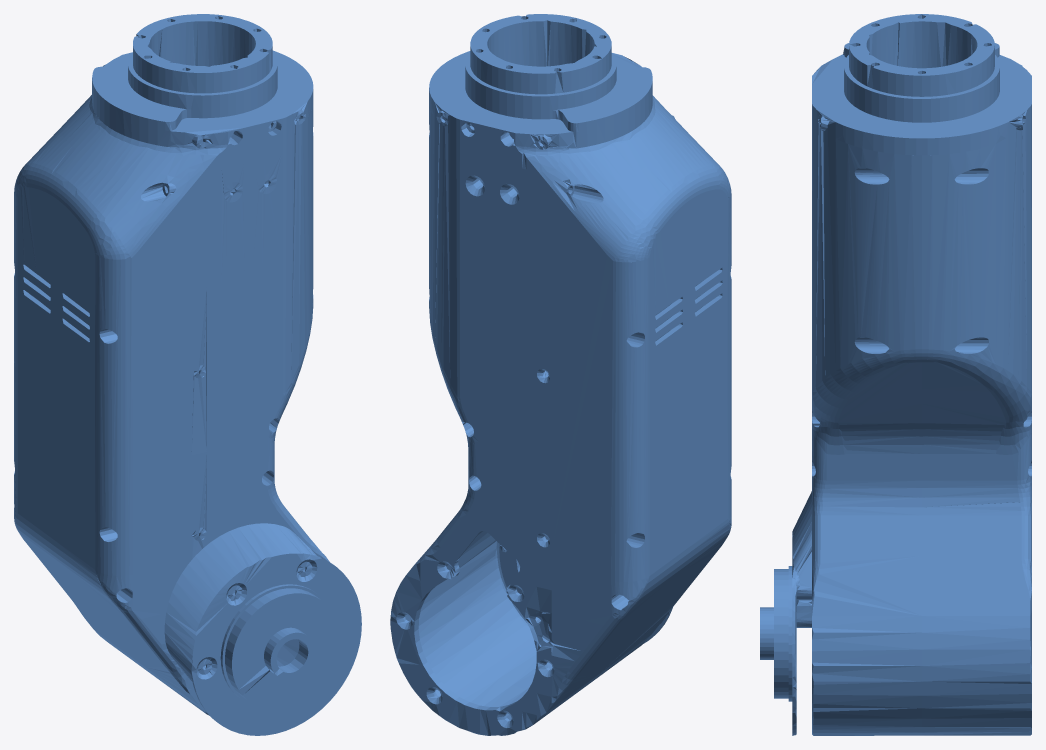
File: A2R3_RT3_bicep.dae
3 renders of one model, left to right at view 1: azimuth 30°, elevation 25°; view 2: azimuth 150°, elevation 25°; view 3: azimuth 270°, elevation 25°, orthographic. The views are drawn at different scales.
Parts seen in each view (by area): view 1: A2R3_RT3_bicep; view 2: A2R3_RT3_bicep; view 3: A2R3_RT3_bicep.
Boxes of the visible parts, bbox=[...] form: A2R3_RT3_bicep: bbox=[14, 14, 361, 735]; A2R3_RT3_bicep: bbox=[390, 14, 731, 735]; A2R3_RT3_bicep: bbox=[760, 14, 1031, 735].
Bounding box in the file's own units: 0.1003 × 0.093 × 0.2551.
